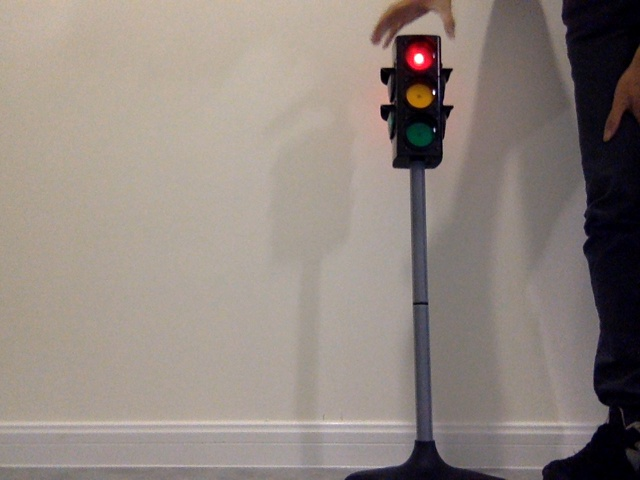red: (400, 43, 436, 149)
